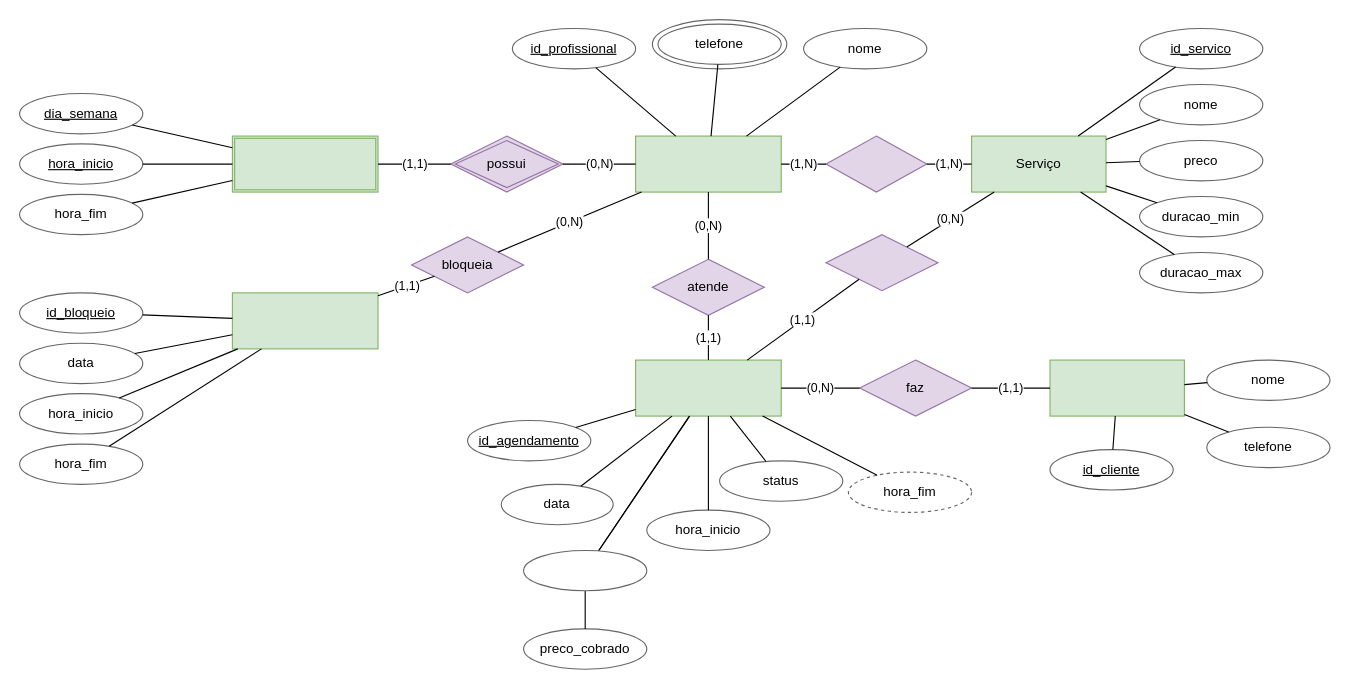
Some shapes in this 1350 by 689 pixel diagram are drawn without their labels. The shapes that lost their labels are listed below. From the top down, each one's box as (x1, y1, x2, y2) in pixels, then its label:
(231, 135, 378, 192): Expediente
(634, 135, 781, 192): Profissional
(825, 135, 927, 192): realiza
(825, 234, 938, 291): agendado
(231, 292, 378, 349): Bloqueio
(634, 359, 781, 416): Agendamento
(1049, 359, 1184, 416): Cliente
(522, 549, 647, 591): duracao_minutos
